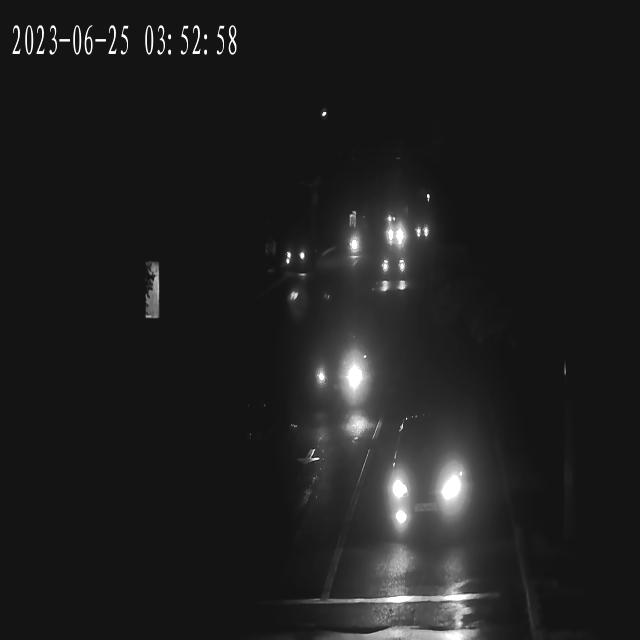Car: (371, 420, 476, 532), (305, 336, 373, 404), (284, 234, 315, 266), (380, 252, 407, 282), (343, 227, 368, 256), (380, 222, 404, 245), (412, 222, 432, 239)
